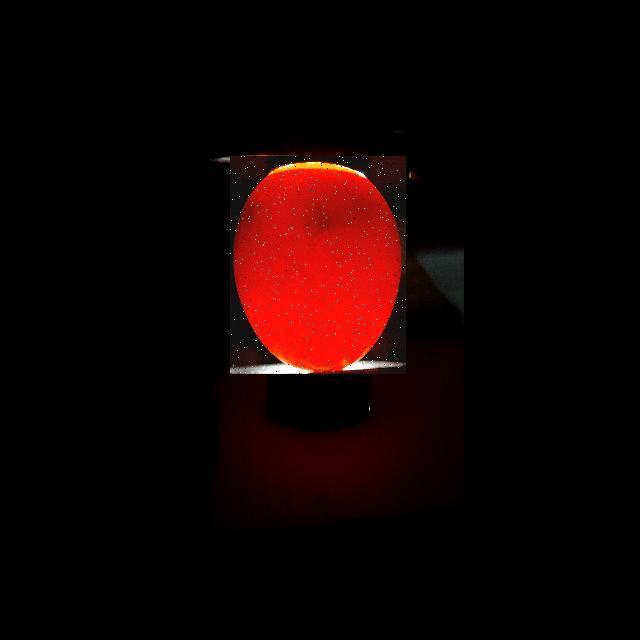Fertile: (230, 156, 406, 374)
